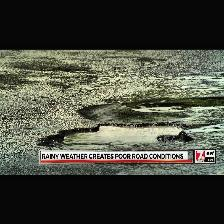pothole: (39, 121, 194, 150)
